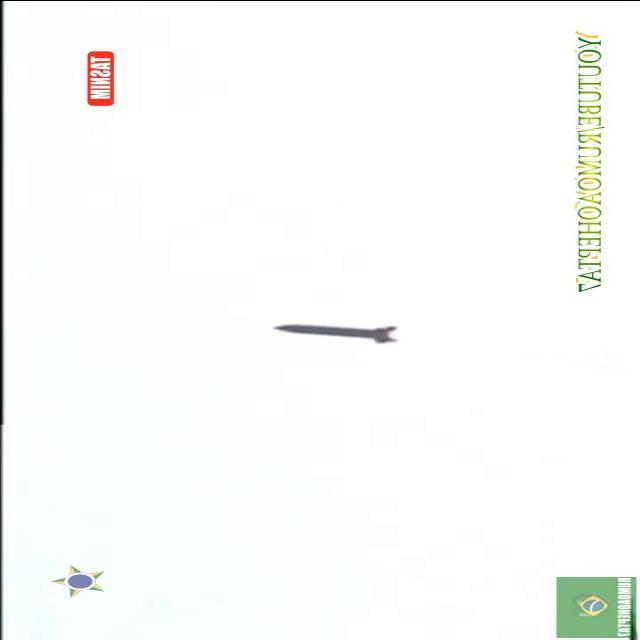Missile: (267, 314, 407, 348)
